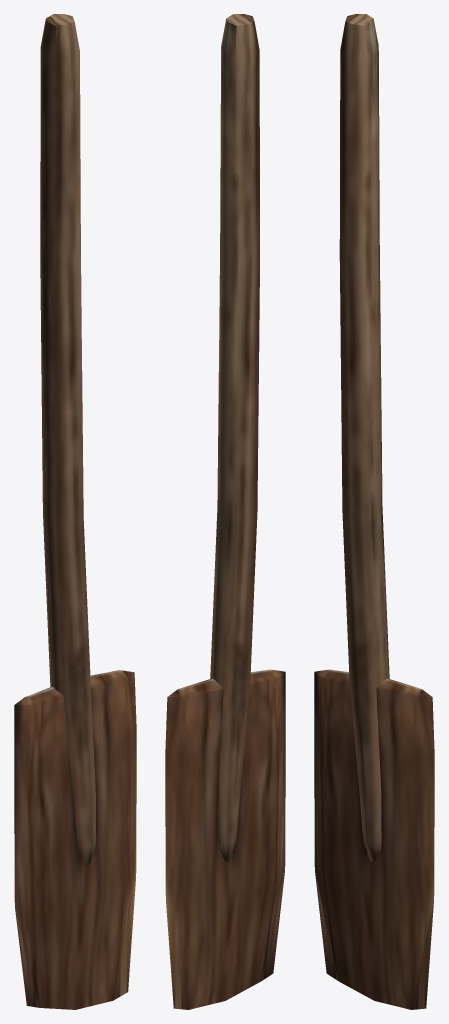
The model's file is paddle_A.fbx.
The picture shows the model from 3 angles, left to right: view 1: azimuth 30°, elevation 25°; view 2: azimuth 210°, elevation 25°; view 3: azimuth 330°, elevation 25°; orthographic projection.
Parts seen in each view (by area): view 1: paddleA_oar, paddleA_handle; view 2: paddleA_oar, paddleA_handle; view 3: paddleA_oar, paddleA_handle.
Part boxes in pixels (x1,y1,x2,y2): paddleA_oar: (14,670,136,1009); paddleA_handle: (40,14,96,866); paddleA_oar: (165,669,285,1009); paddleA_handle: (210,14,259,862); paddleA_oar: (314,669,434,1009); paddleA_handle: (339,14,389,862).
Size of the model in its own units: 51.03 by 396 by 14.24.
Materials: 1 (1 with a texture image).
